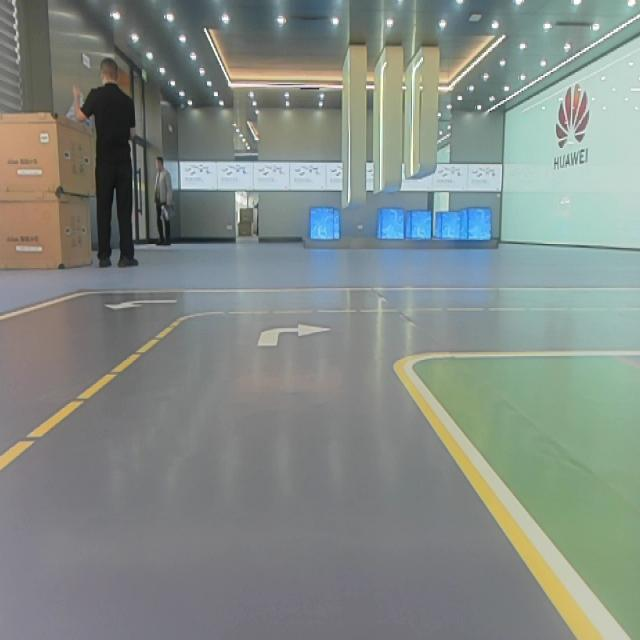left_lane: (2, 317, 175, 477)
right_lane: (396, 375, 595, 637), (1, 291, 73, 328)
